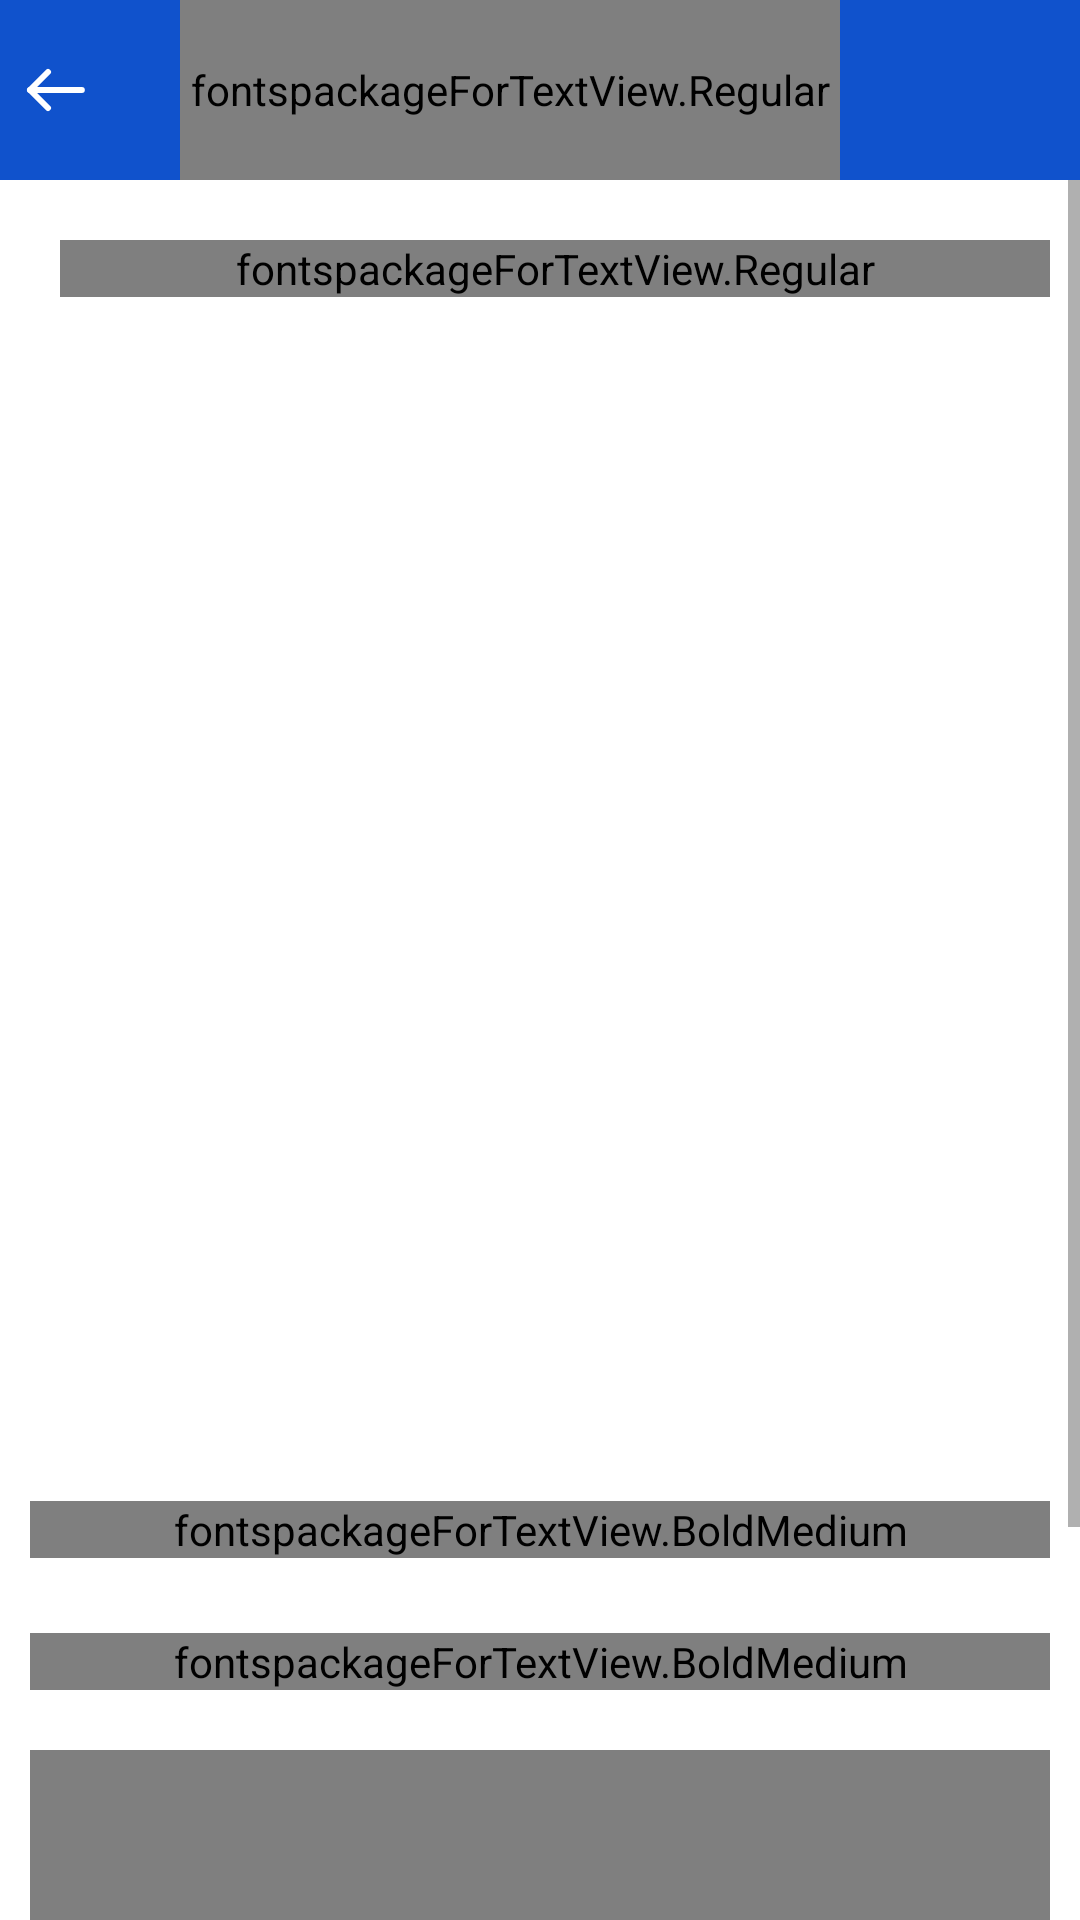

Icon bounding boxes for this 1080×1920 phone screenshot, format (x1, y1, x2, y2):
back: (27, 69, 85, 111)
